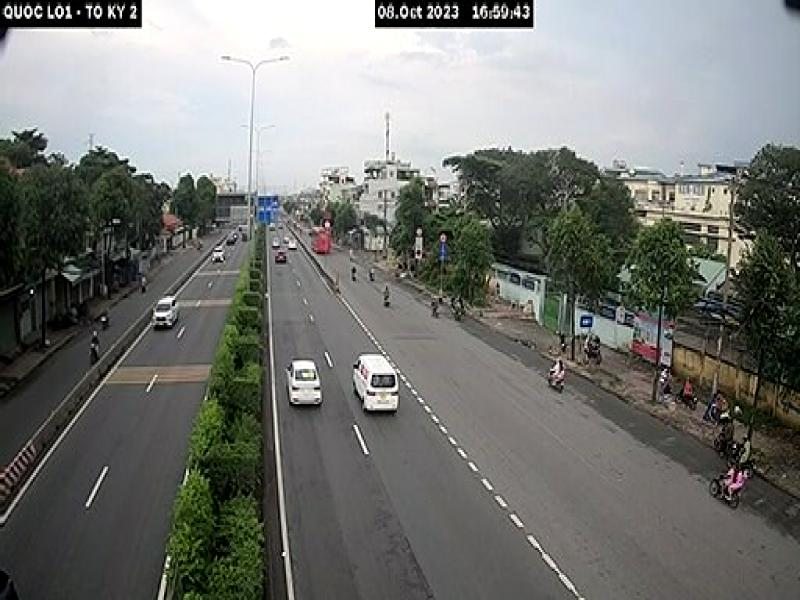car: (351, 353, 400, 416), (286, 358, 324, 410), (152, 296, 180, 328)
